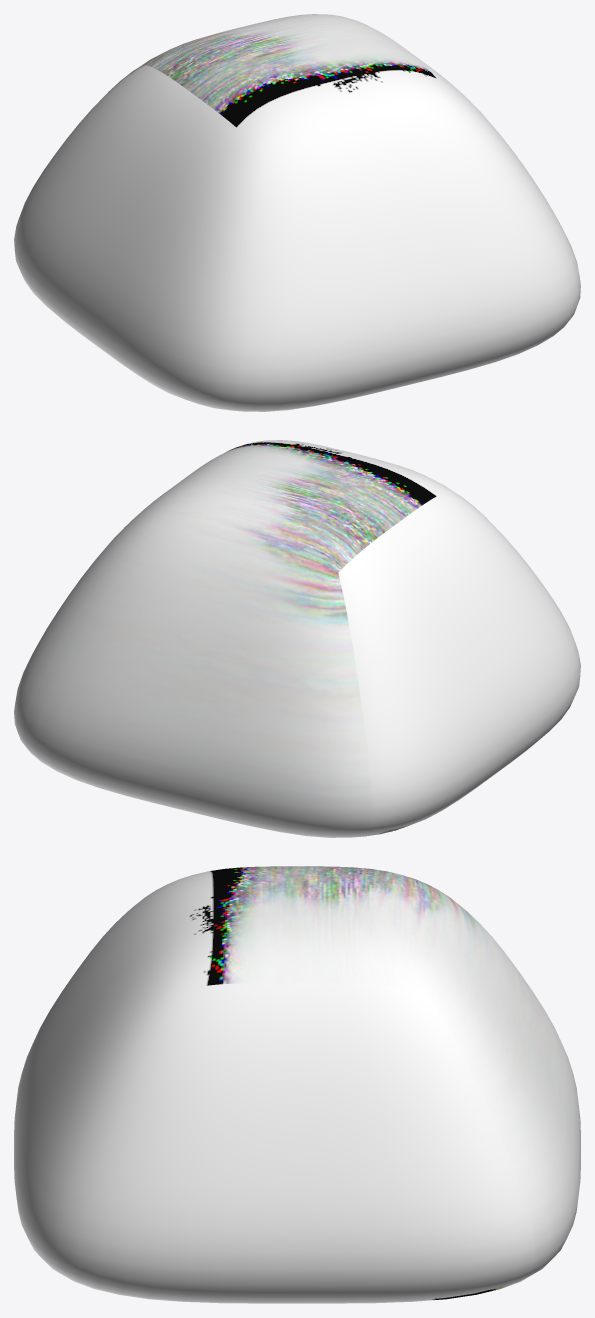
The model's file is BasicEnemy.fbx.
The picture shows the model from 3 angles, top to bottom: view 1: azimuth 30°, elevation 25°; view 2: azimuth 150°, elevation 25°; view 3: azimuth 270°, elevation 25°; orthographic projection. The views are drawn at different scales.
Parts seen in each view (by area): view 1: BasicEnemy; view 2: BasicEnemy; view 3: BasicEnemy.
Part boxes in pixels (x1=…): BasicEnemy: x1=14, y1=14, x2=580, y2=411; BasicEnemy: x1=14, y1=440, x2=580, y2=837; BasicEnemy: x1=14, y1=866, x2=580, y2=1303.
Size of the model in its own units: 1.12 by 0.6976 by 1.12.
1 material, 1 textured.
